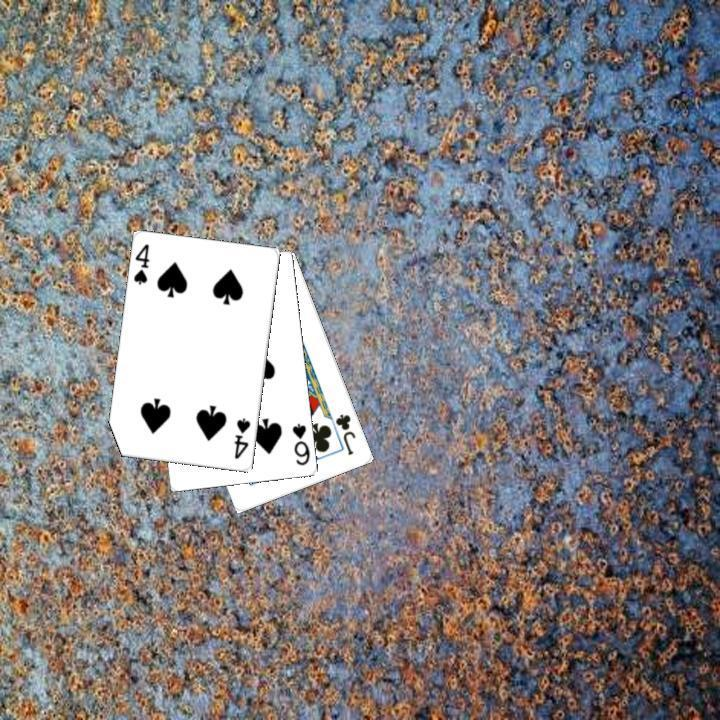4: (230, 414, 253, 461), (129, 240, 152, 287)
6: (288, 419, 312, 467)
J: (331, 410, 358, 457)
